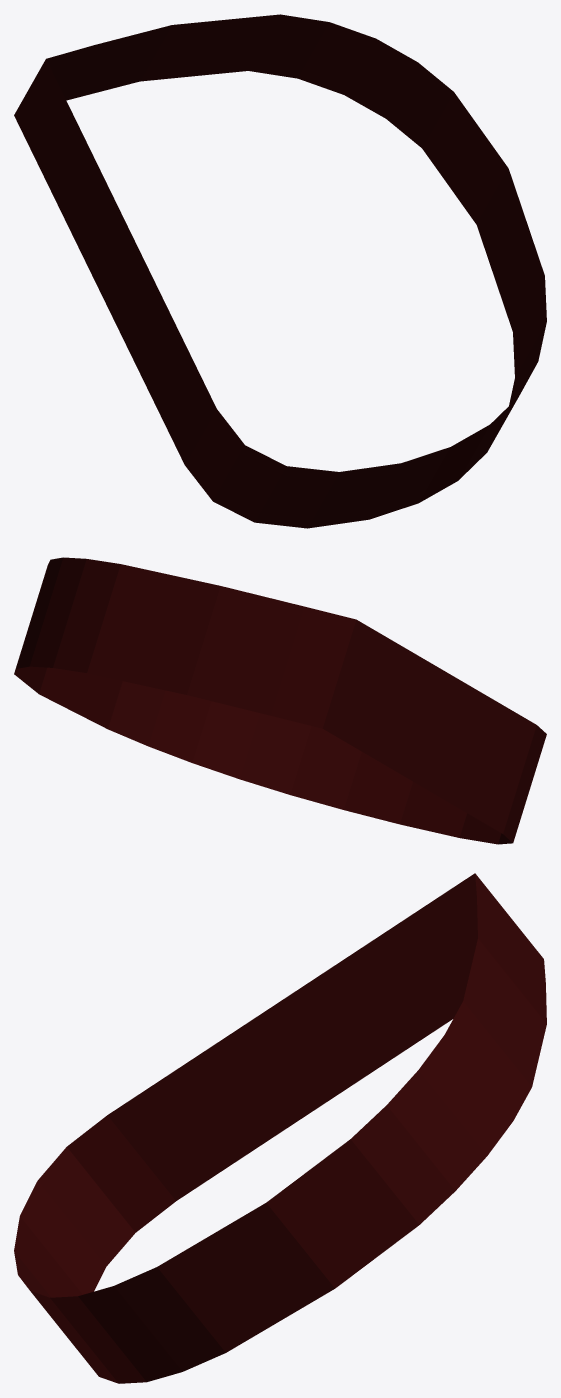
The model's file is original-42.obj.
3 renders of one model, top to bottom at view 1: azimuth 30°, elevation 25°; view 2: azimuth 150°, elevation 25°; view 3: azimuth 270°, elevation 25°, orthographic. The views are drawn at different scales.
Parts seen in each view (by area): view 1: #ID104; view 2: #ID104; view 3: #ID104.
Boxes of the visible parts, x1,y1,x2,y2 form: #ID104: (14,14,546,528); #ID104: (14,557,546,844); #ID104: (14,873,546,1383).
Bounding box in the file's own units: 0.00677 × 0.00644 × 0.00795.
